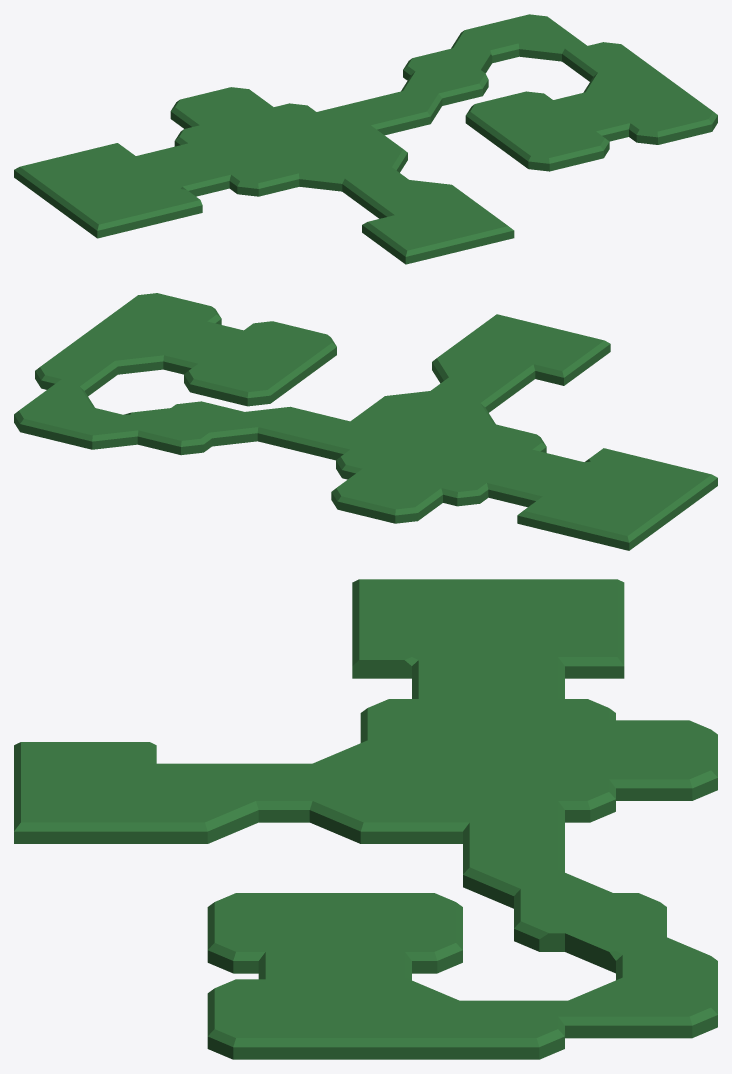
File: Ground.fbx
3 renders of one model, top to bottom at view 1: azimuth 30°, elevation 25°; view 2: azimuth 150°, elevation 25°; view 3: azimuth 270°, elevation 25°, orthographic. The views are drawn at different scales.
Visible parts, largest first — view 1: Ground; view 2: Ground; view 3: Ground.
Boxes of the visible parts, x1,y1,x2,y2 form: Ground: (14, 14, 717, 264); Ground: (14, 293, 717, 550); Ground: (14, 579, 717, 1059).
Bounding box in the file's own units: 241 × 4.53 × 154.
